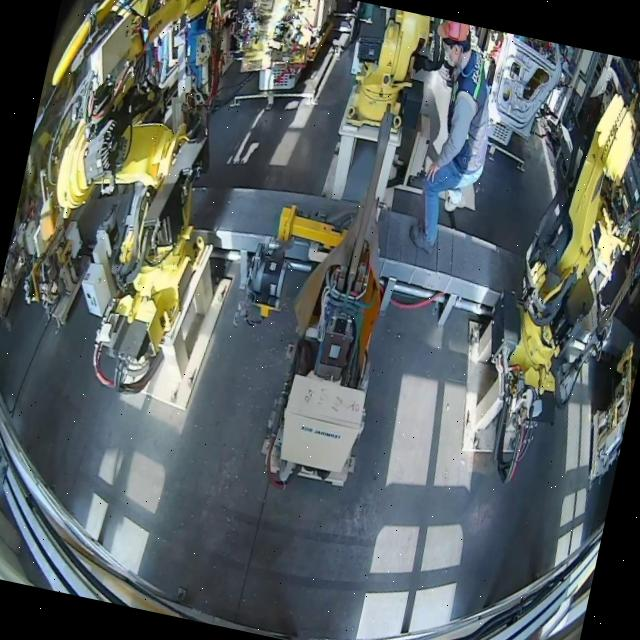Person: (391, 18, 513, 262)
